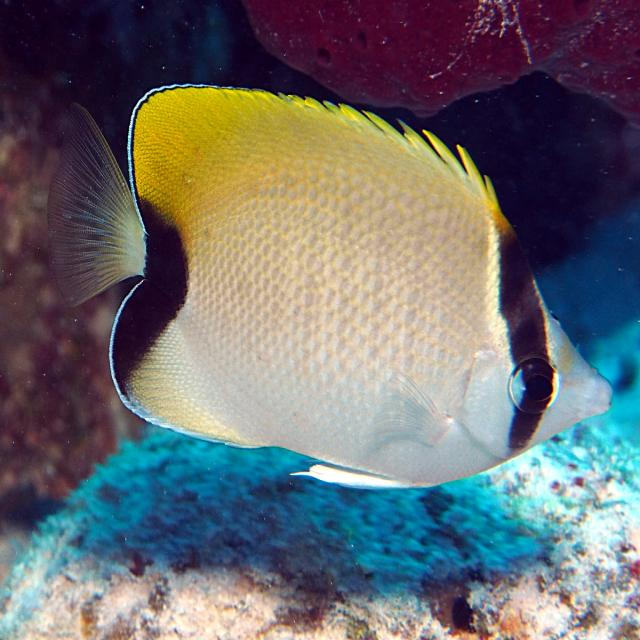ButterflyFish: (54, 84, 613, 486)
